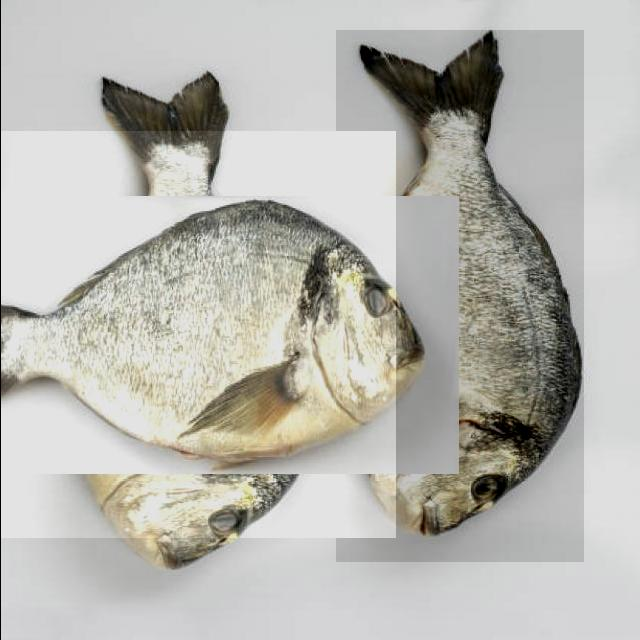Healthy Fish: (0, 131, 395, 538), (335, 30, 583, 562)
